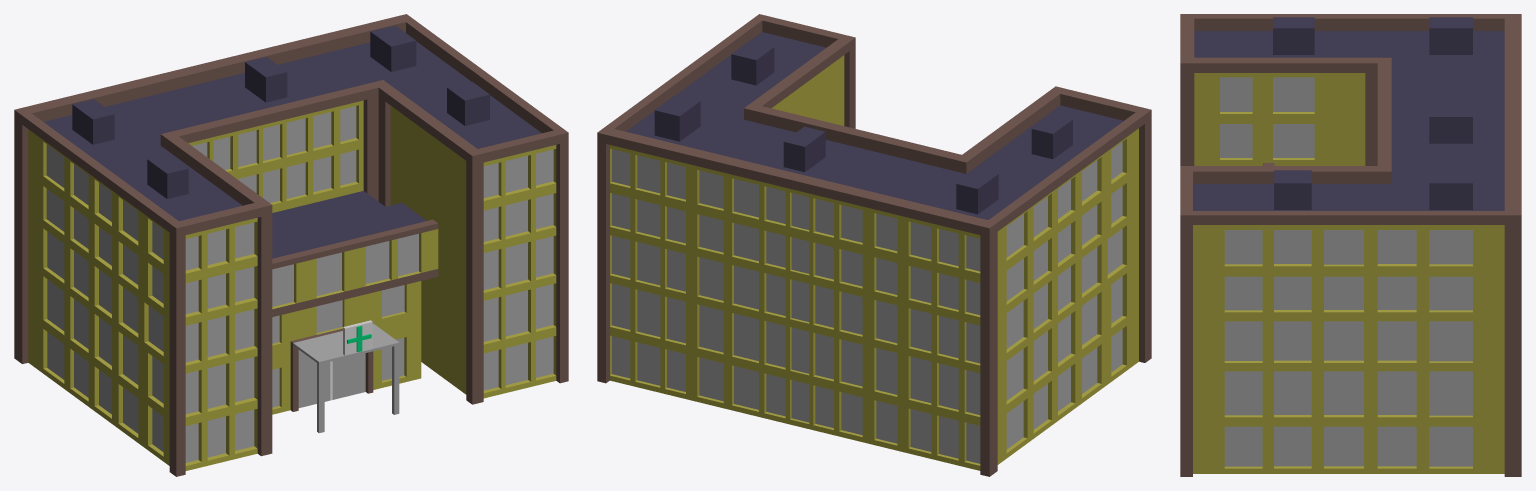
File: sjukhus.fbx
3 renders of one model, left to right at view 1: azimuth 30°, elevation 25°; view 2: azimuth 150°, elevation 25°; view 3: azimuth 270°, elevation 25°, orthographic. The views are drawn at different scales.
Visible parts, largest first — view 1: Sjukhus; view 2: Sjukhus; view 3: Sjukhus.
Boxes of the visible parts, <box> form: Sjukhus: <box>14,14,568,476</box>; Sjukhus: <box>597,14,1151,476</box>; Sjukhus: <box>1180,14,1521,476</box>.
Size of the model in its own units: 112 by 72.12 by 80.09.
